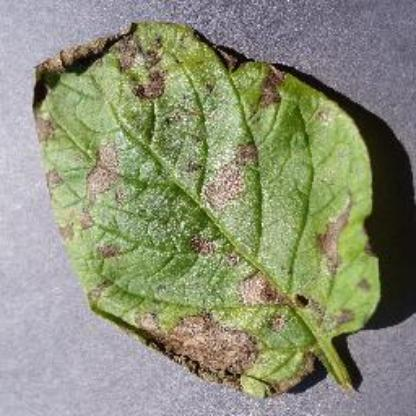Early-Blight: (32, 20, 388, 398)
